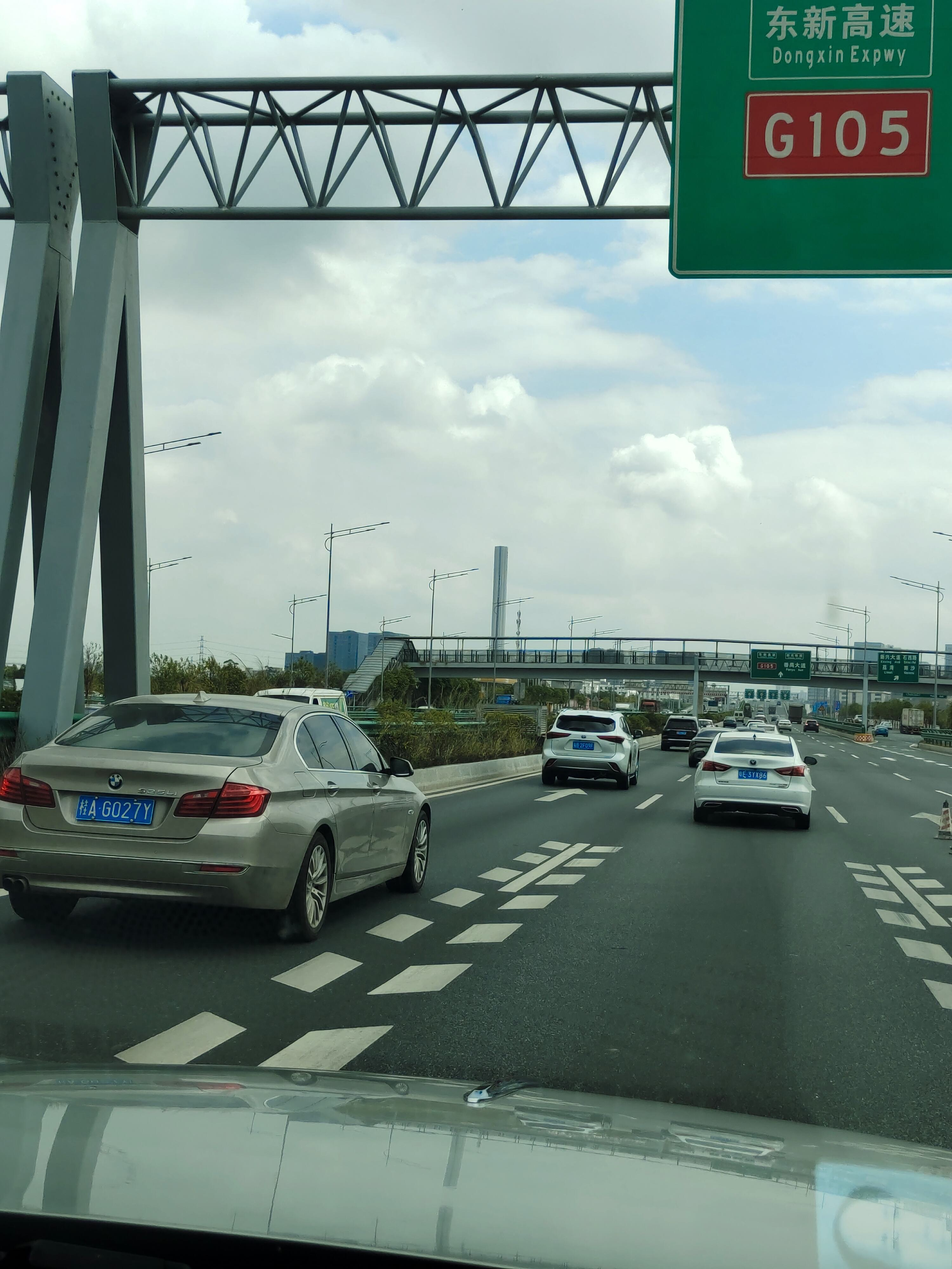car: (3, 682, 493, 920), (688, 726, 814, 846), (550, 707, 647, 816), (656, 707, 699, 752), (767, 708, 792, 731)
